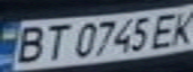0: (69, 19, 100, 60)
4: (112, 15, 139, 55)
5: (127, 12, 160, 53)
7: (93, 17, 118, 56)
B: (3, 22, 51, 65)
E: (145, 10, 184, 49)
K: (166, 7, 193, 46)
T: (33, 21, 72, 62)
